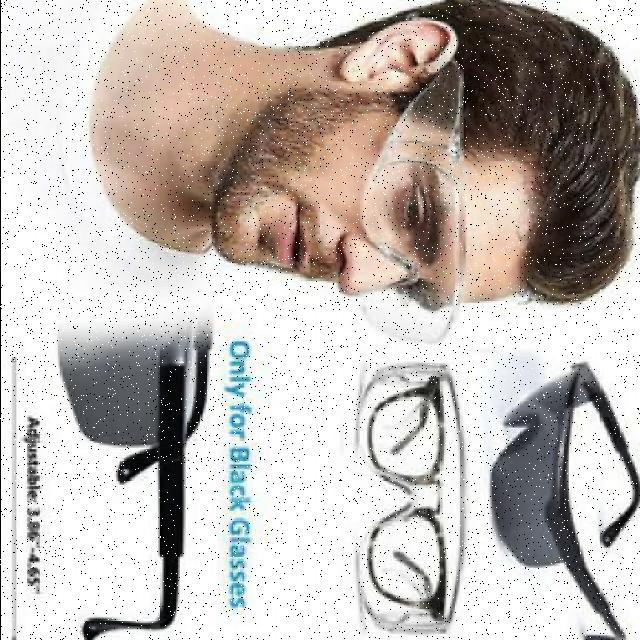Goggles: (342, 25, 484, 351)
